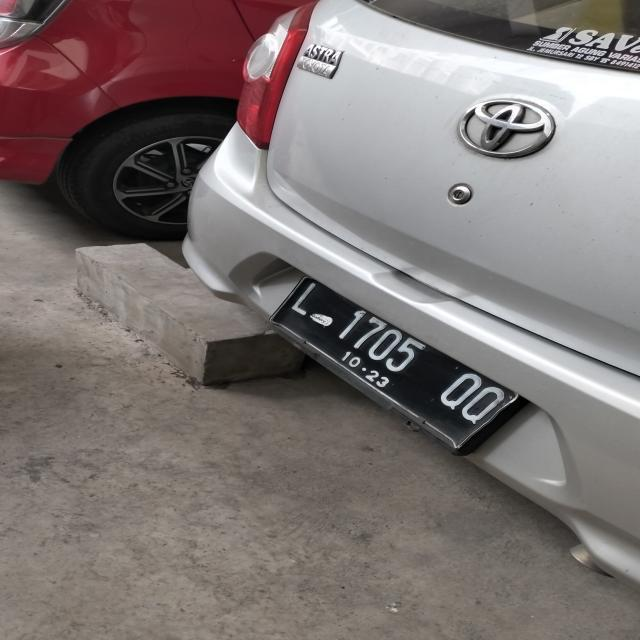0: (366, 324, 407, 366)
1: (332, 304, 370, 343)
5: (382, 336, 428, 376)
7: (347, 313, 391, 353)
L: (288, 280, 323, 319)
Q: (457, 380, 510, 427), (436, 367, 488, 414)
